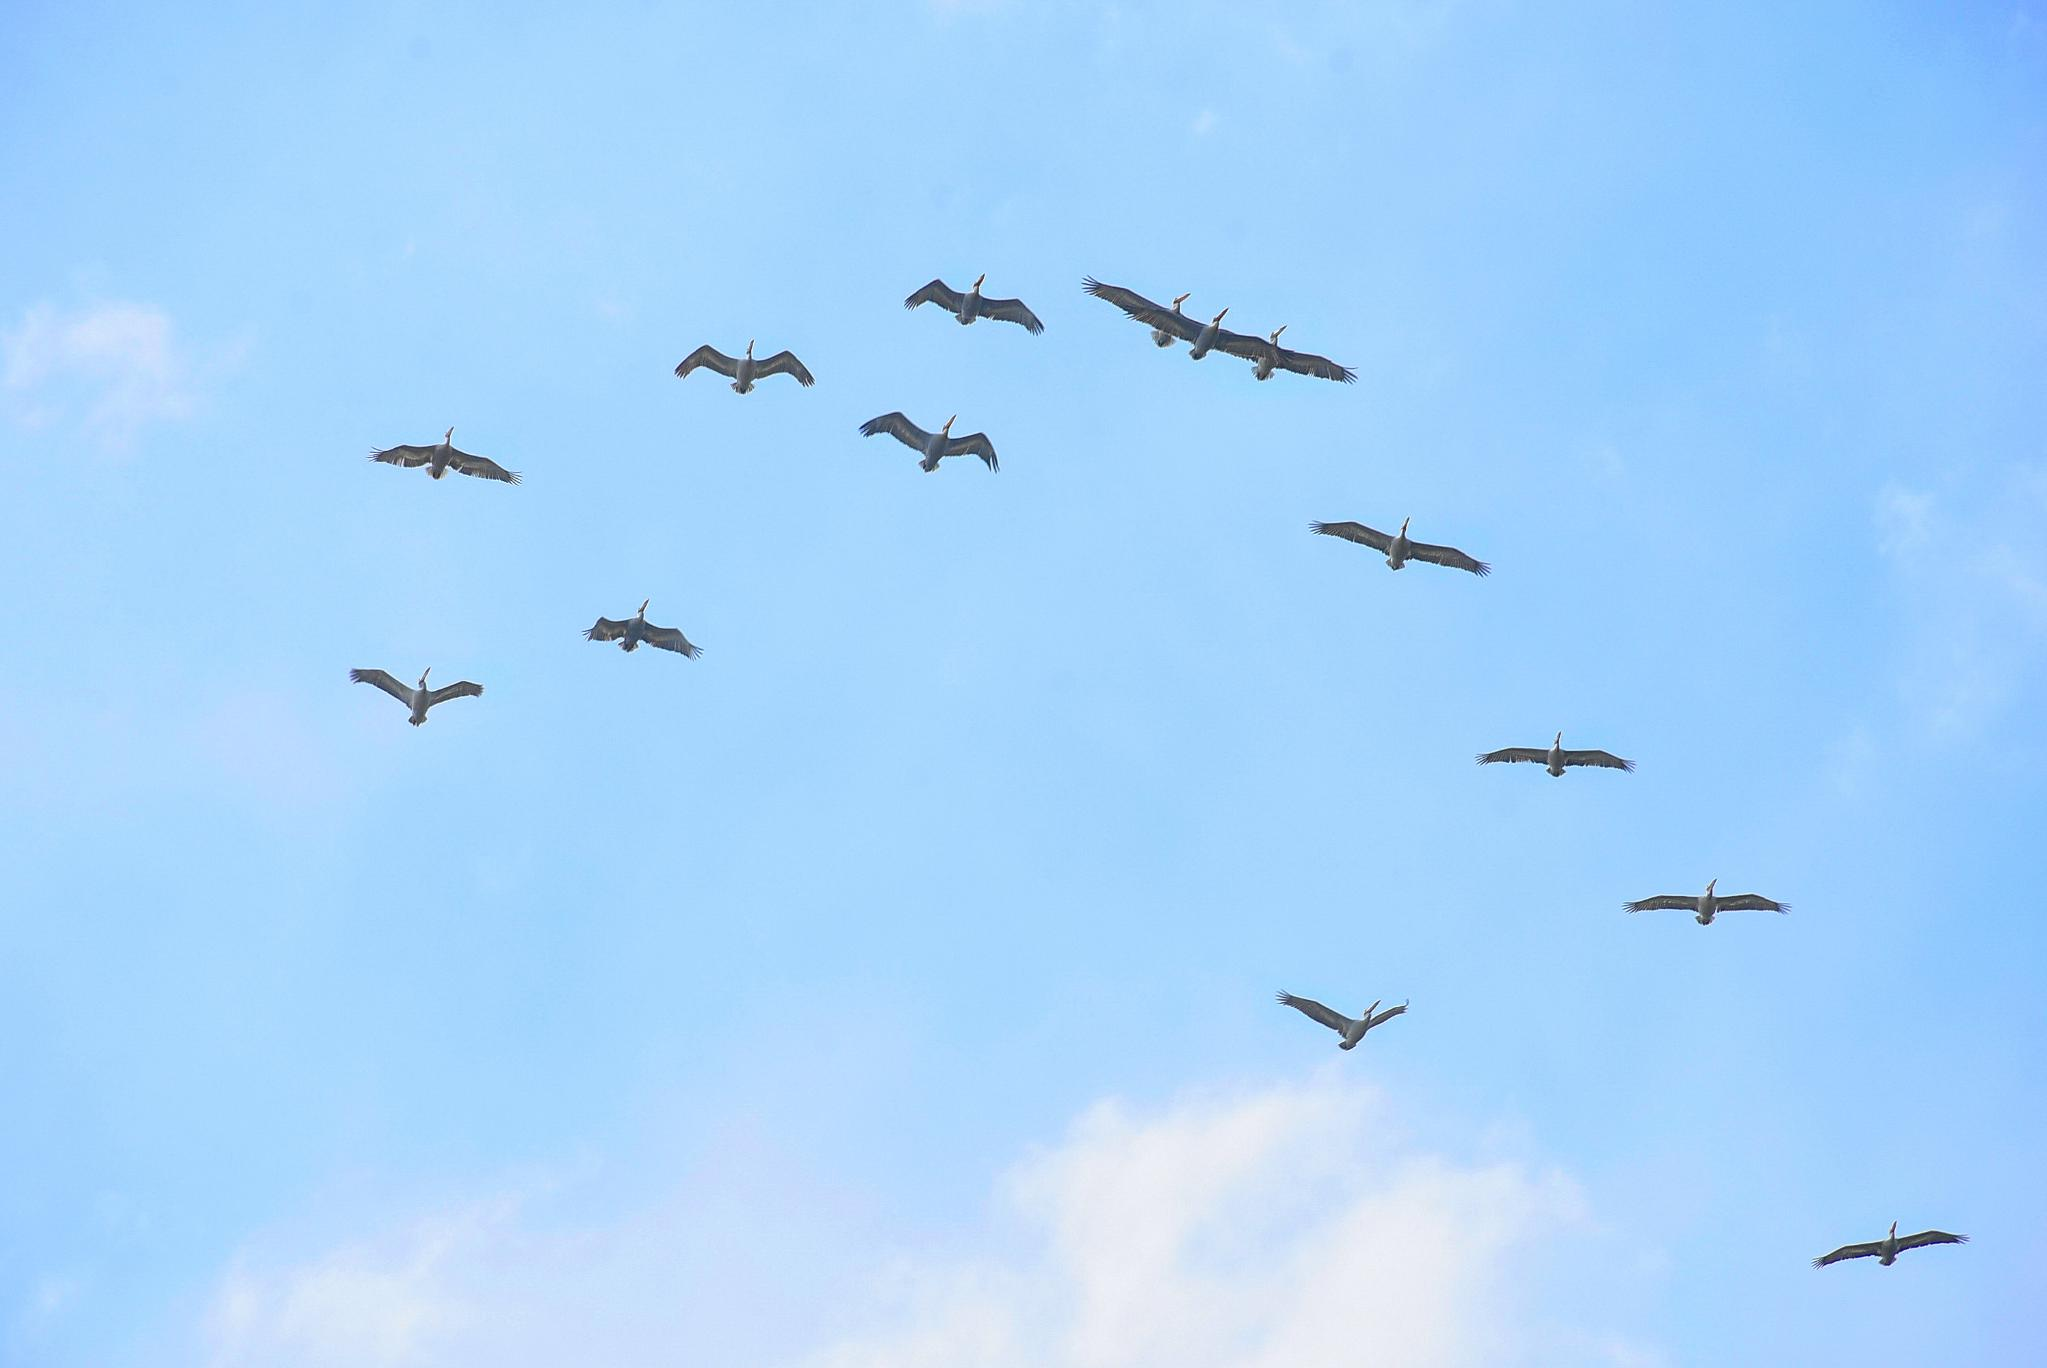bird: (1284, 493, 1507, 609), (882, 249, 1052, 356), (345, 411, 546, 499), (318, 650, 508, 737), (849, 398, 1012, 499), (1265, 970, 1424, 1070), (1797, 1205, 1974, 1293), (658, 324, 827, 406), (1444, 722, 1641, 792), (569, 583, 720, 670), (1604, 870, 1801, 931)
